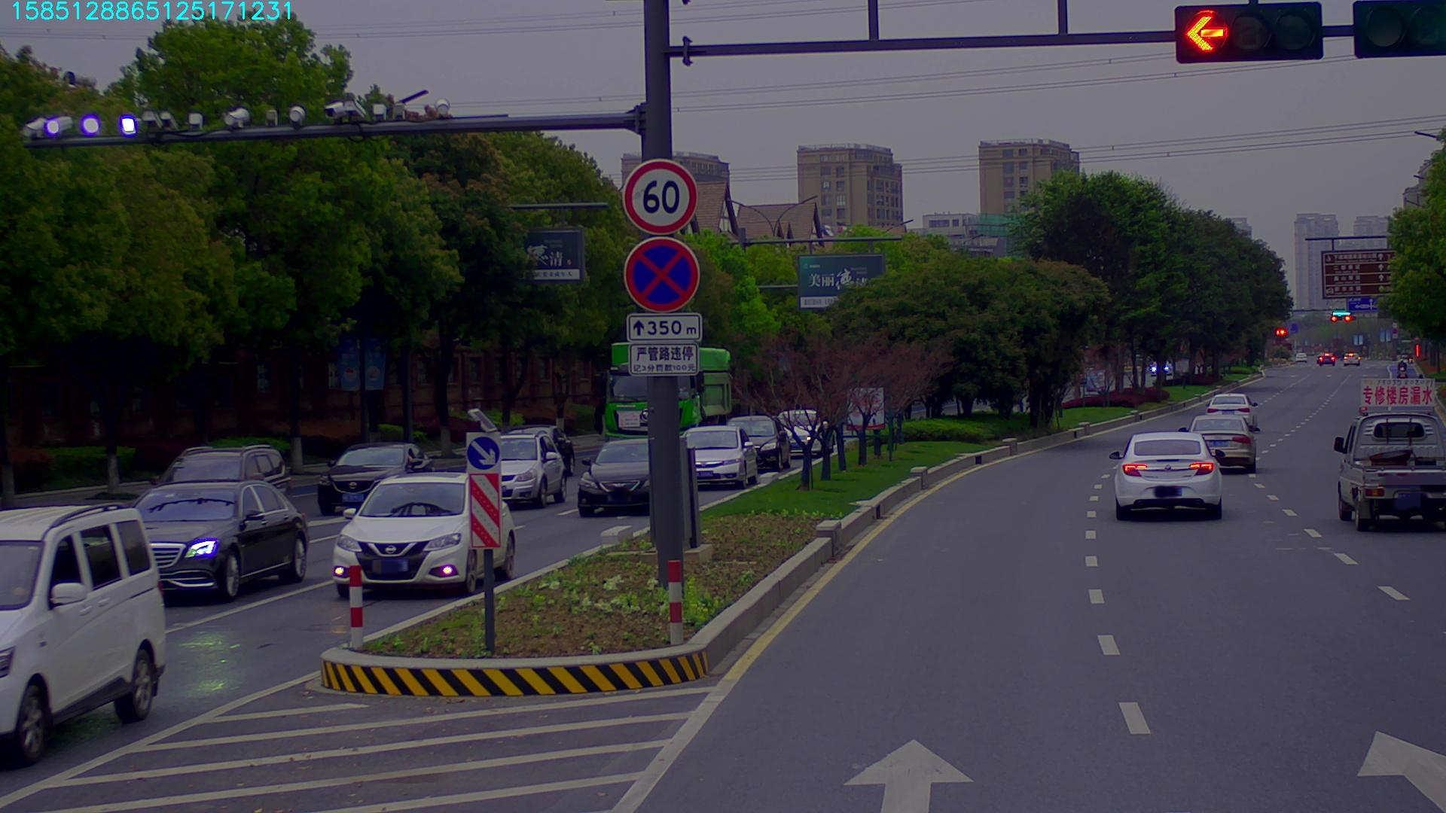red: (1172, 7, 1329, 62)
